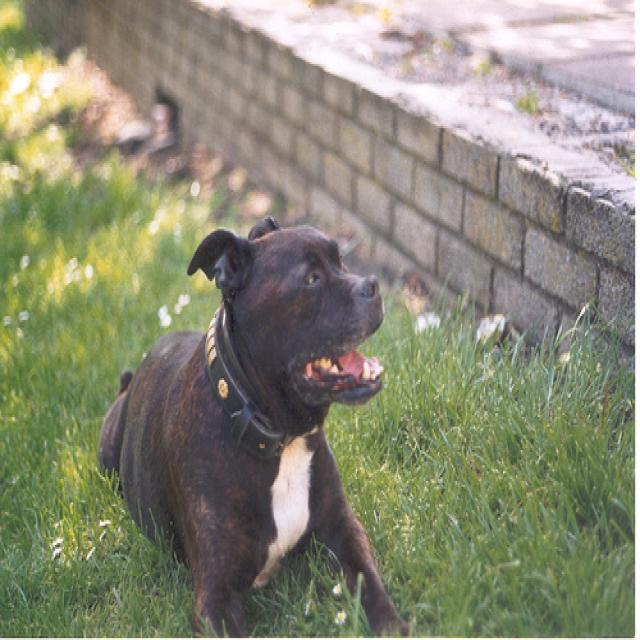dog-staffordshire_bull_terrier: (90, 206, 404, 636)
